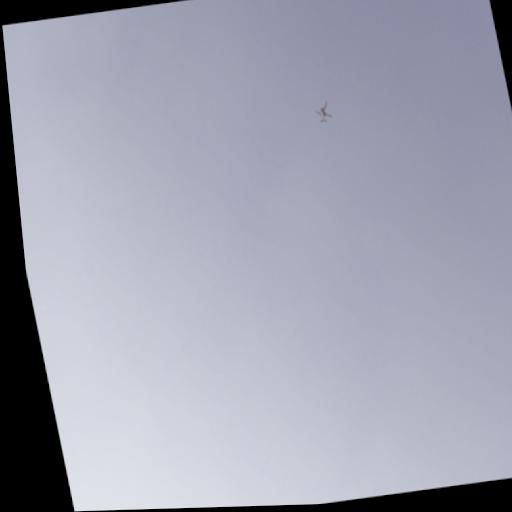drones: (312, 98, 334, 126)
